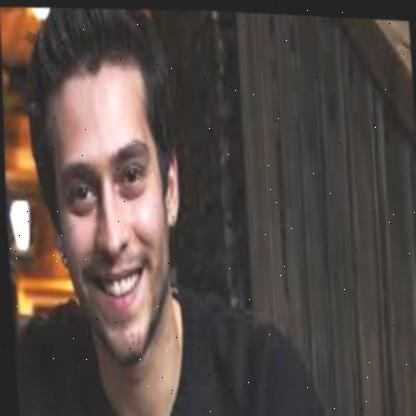person: (22, 3, 190, 374)
